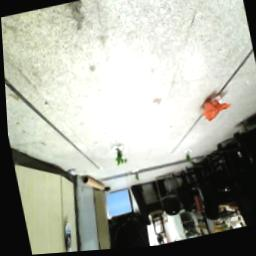herb: (112, 150, 128, 169), (184, 154, 191, 169), (133, 173, 138, 183)
wild: (199, 99, 232, 129)
